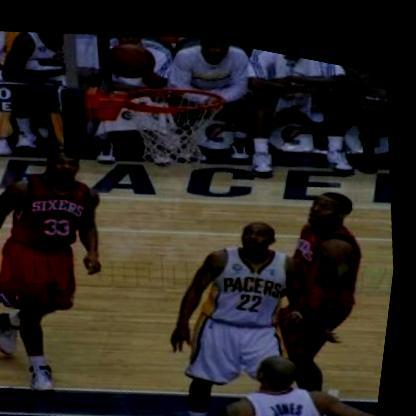basketball: (103, 26, 169, 85)
